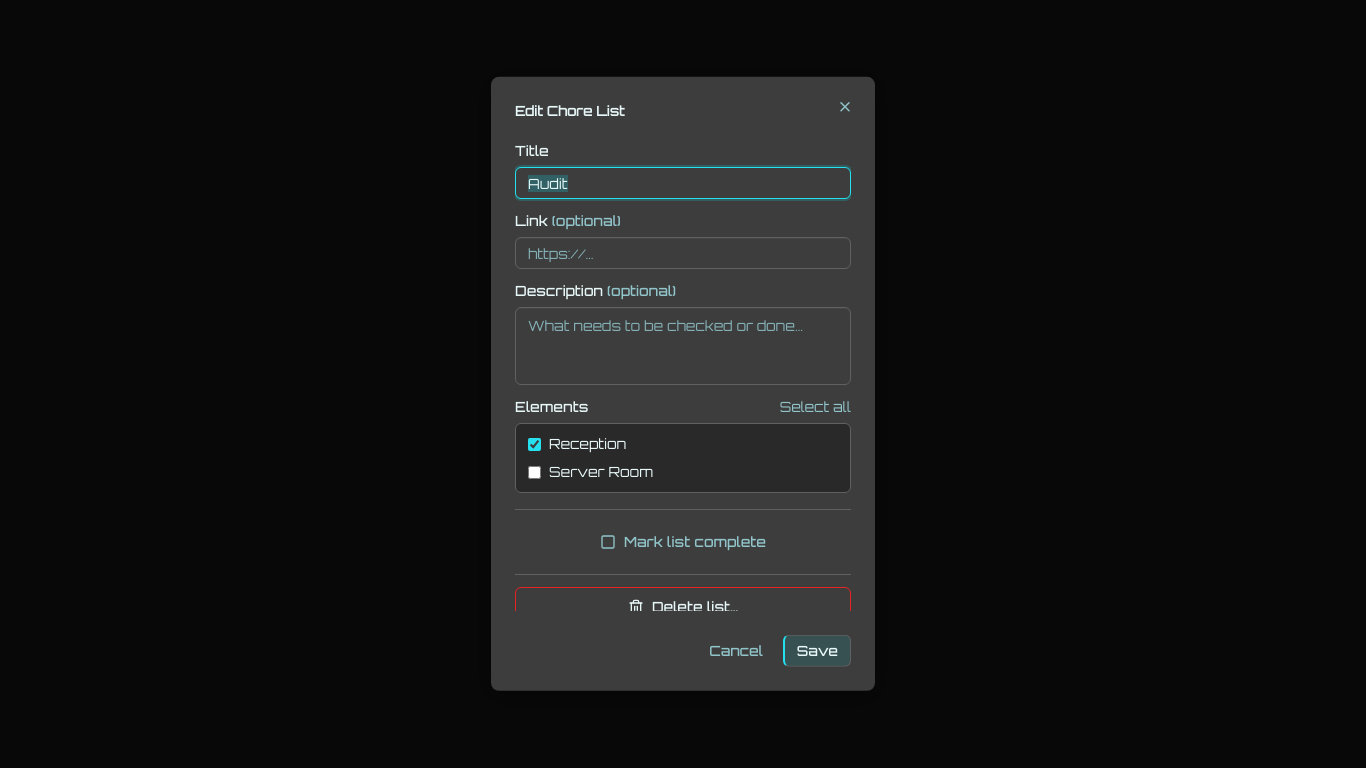
Test: EditChoreListDialog – complete toggle › flips the button label to "Reopen list" after toggling
Click the button "Mark list complete" at (683, 542), box left=515, top=522, right=851, bottom=562
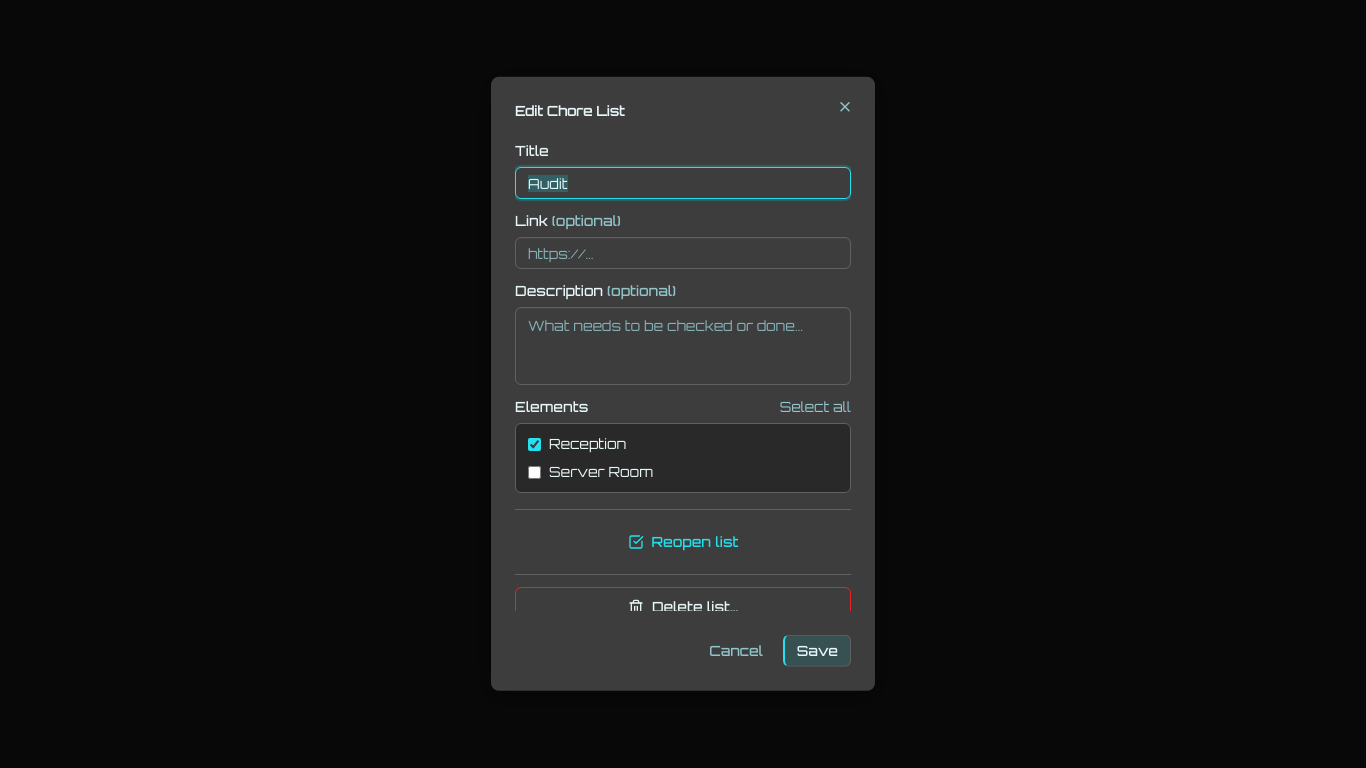
expect the button "Reopen list" is shown: met, box left=515, top=522, right=851, bottom=562
